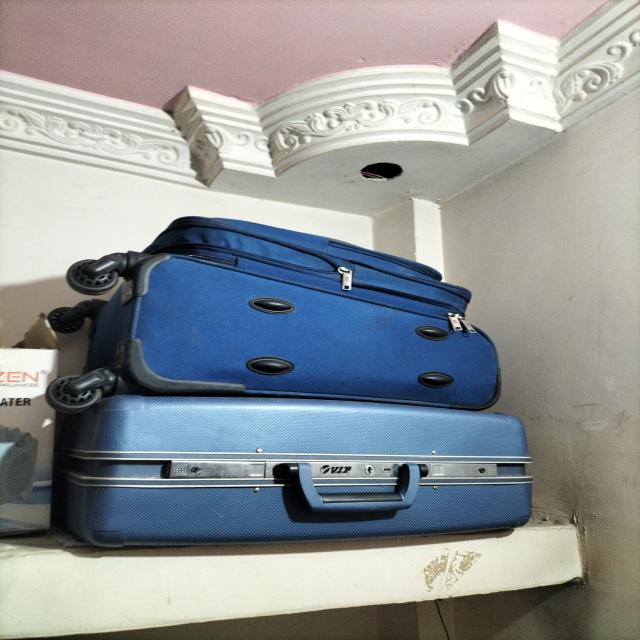suitcaserotation: (41, 213, 506, 419), (46, 387, 538, 555)
